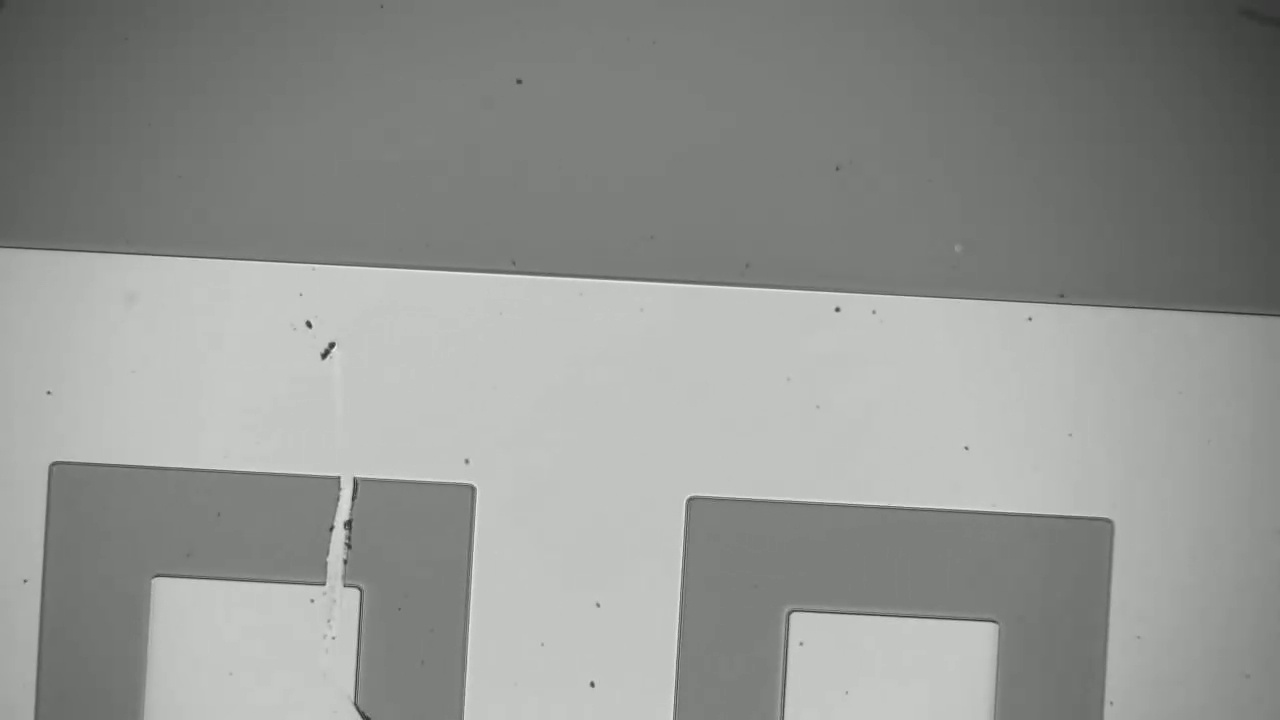Short_circuit: (296, 464, 368, 609)
